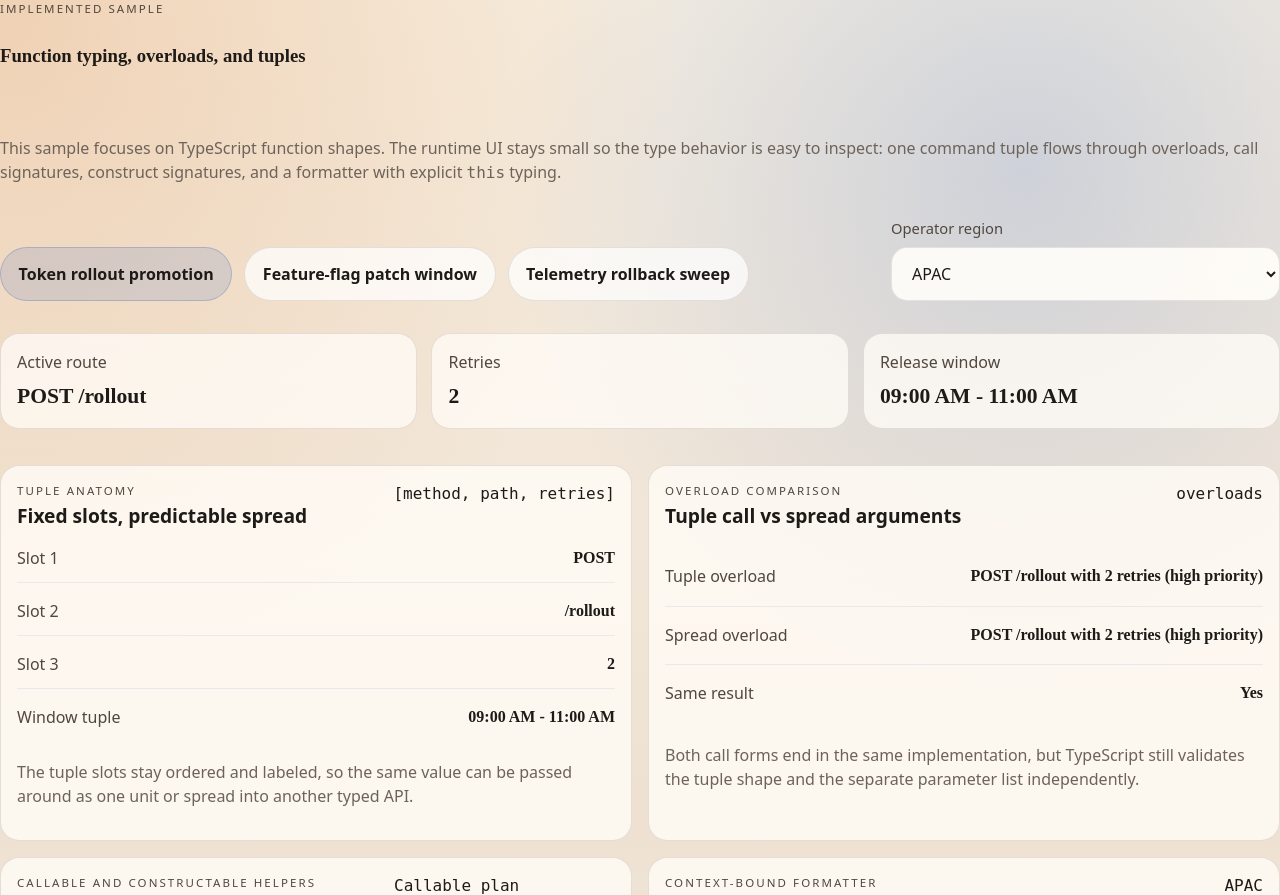
Test: functions tuples sample › updates the active preset and region-bound summary
Select "AMER" in the dropdown labelled "Operator region" at (1086, 274), box top-left (891, 247), bottom-right (1279, 301)
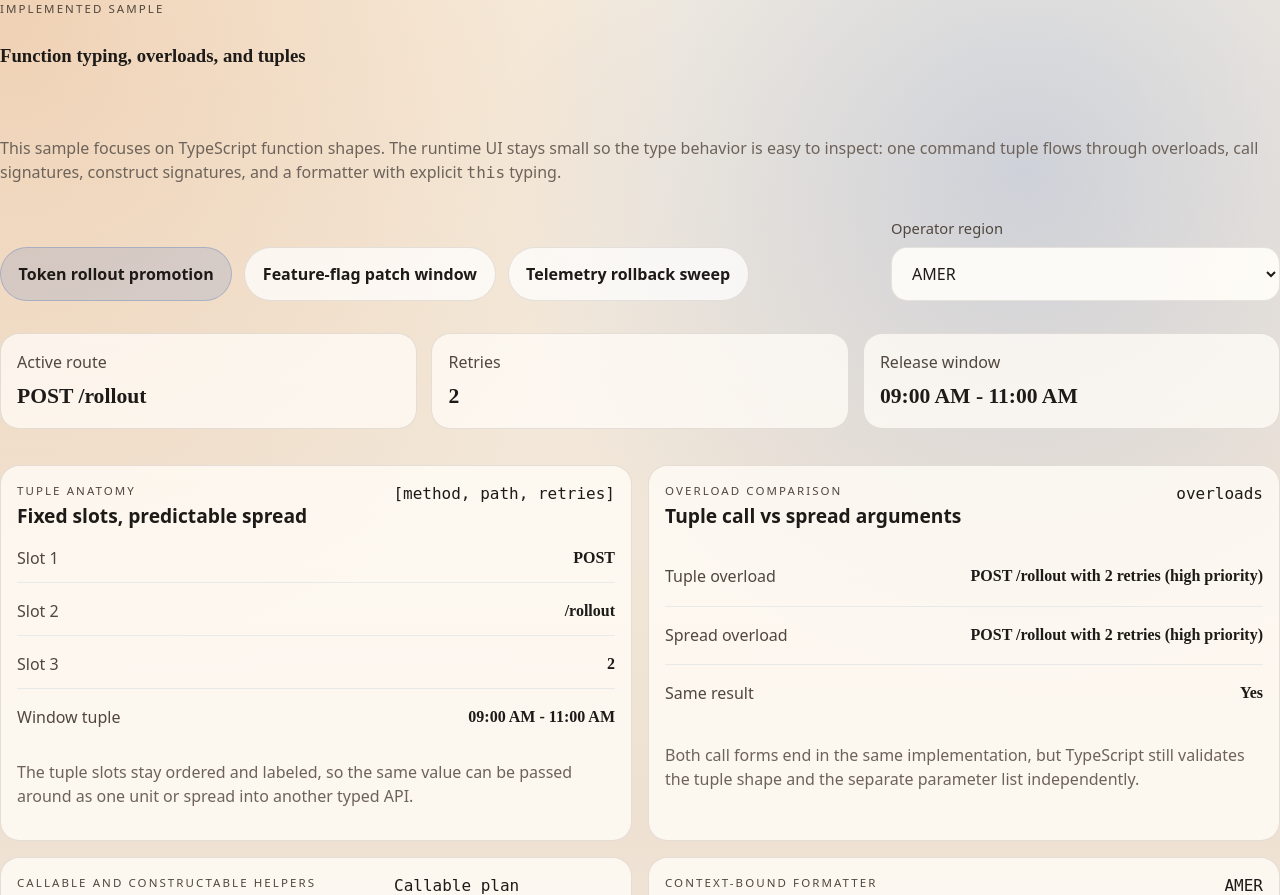
Click the button "Telemetry rollback sweep" at (628, 274), box top-left (508, 247), bottom-right (749, 301)
(page scrolled)
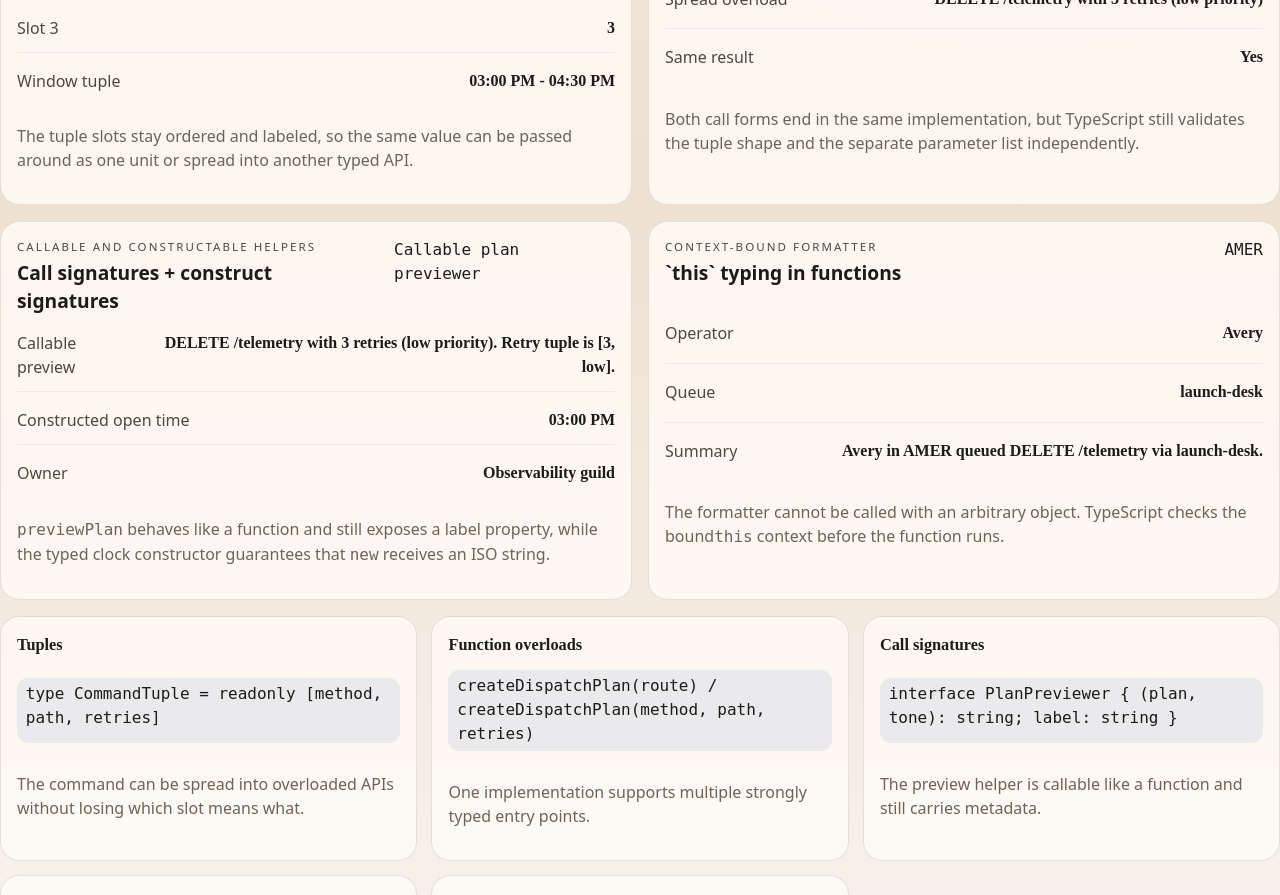
Now the text "Avery in AMER queued DELETE /telemetry via launch-desk." is shown, box top-left (842, 438), bottom-right (1263, 462)
